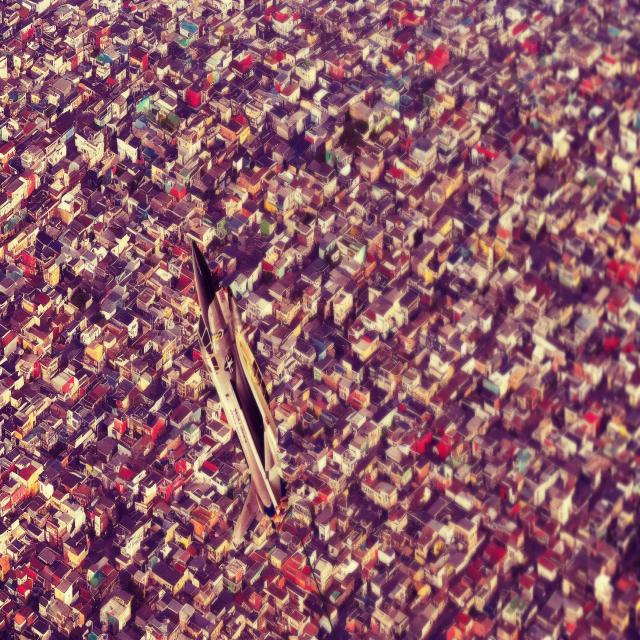airplane: (189, 238, 286, 549)
